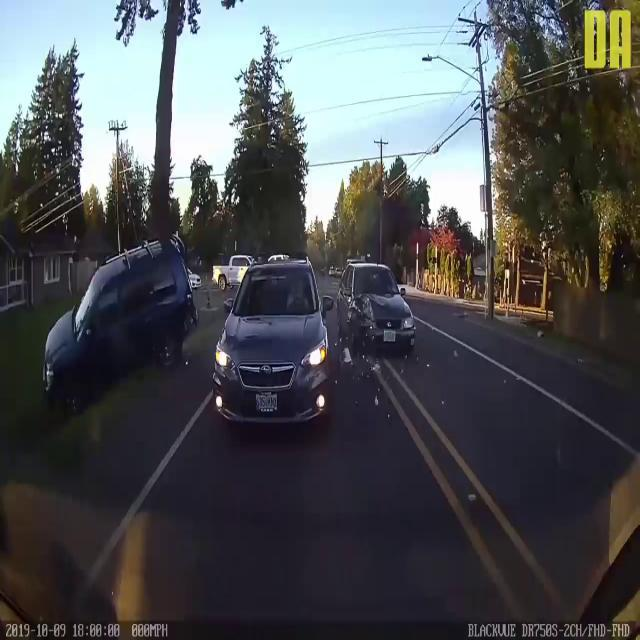multiple_accident: (43, 182, 470, 420)
